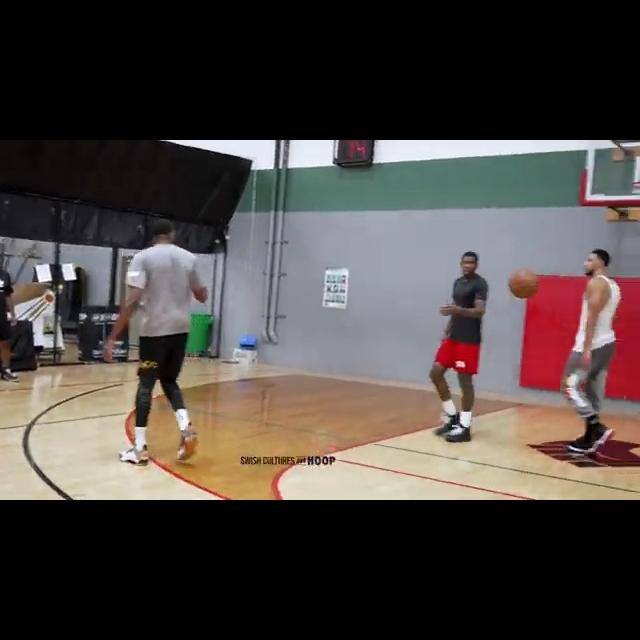basketball: (507, 269, 539, 299)
person: (102, 217, 211, 468), (561, 247, 623, 457), (428, 250, 489, 443), (0, 254, 22, 382)
